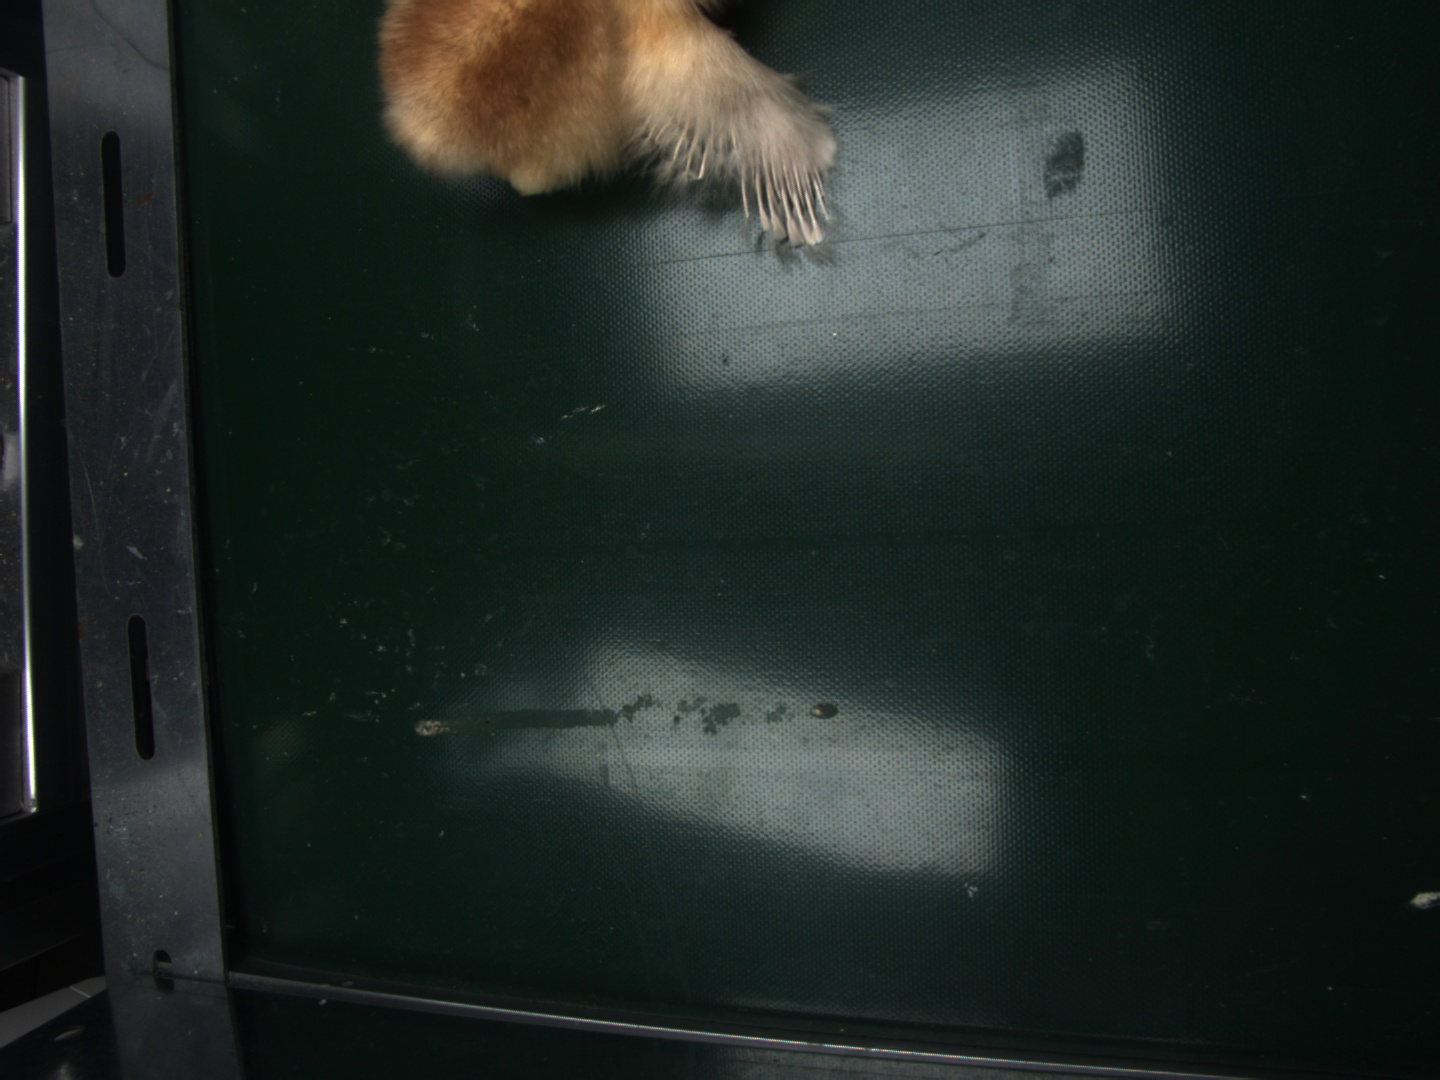female: (742, 157, 832, 246)
